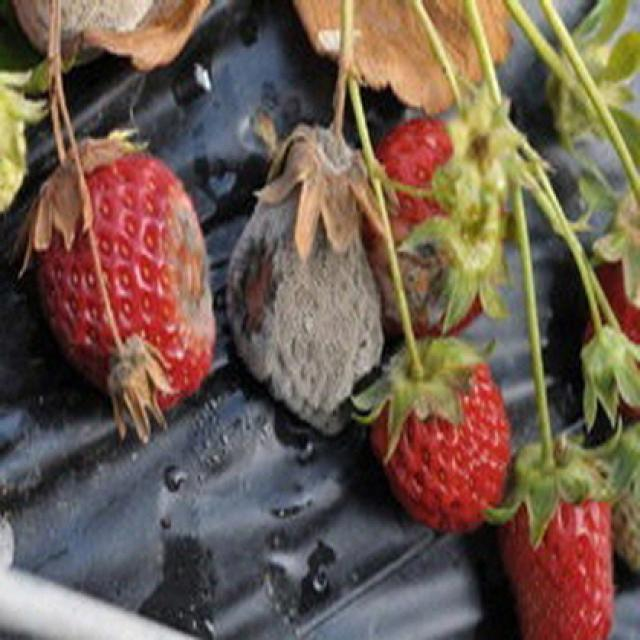Gray Mold: (227, 122, 387, 437), (34, 140, 217, 413)
